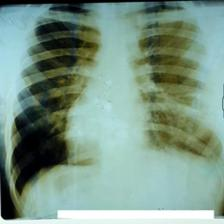tuberculosis: (7, 4, 223, 200)
